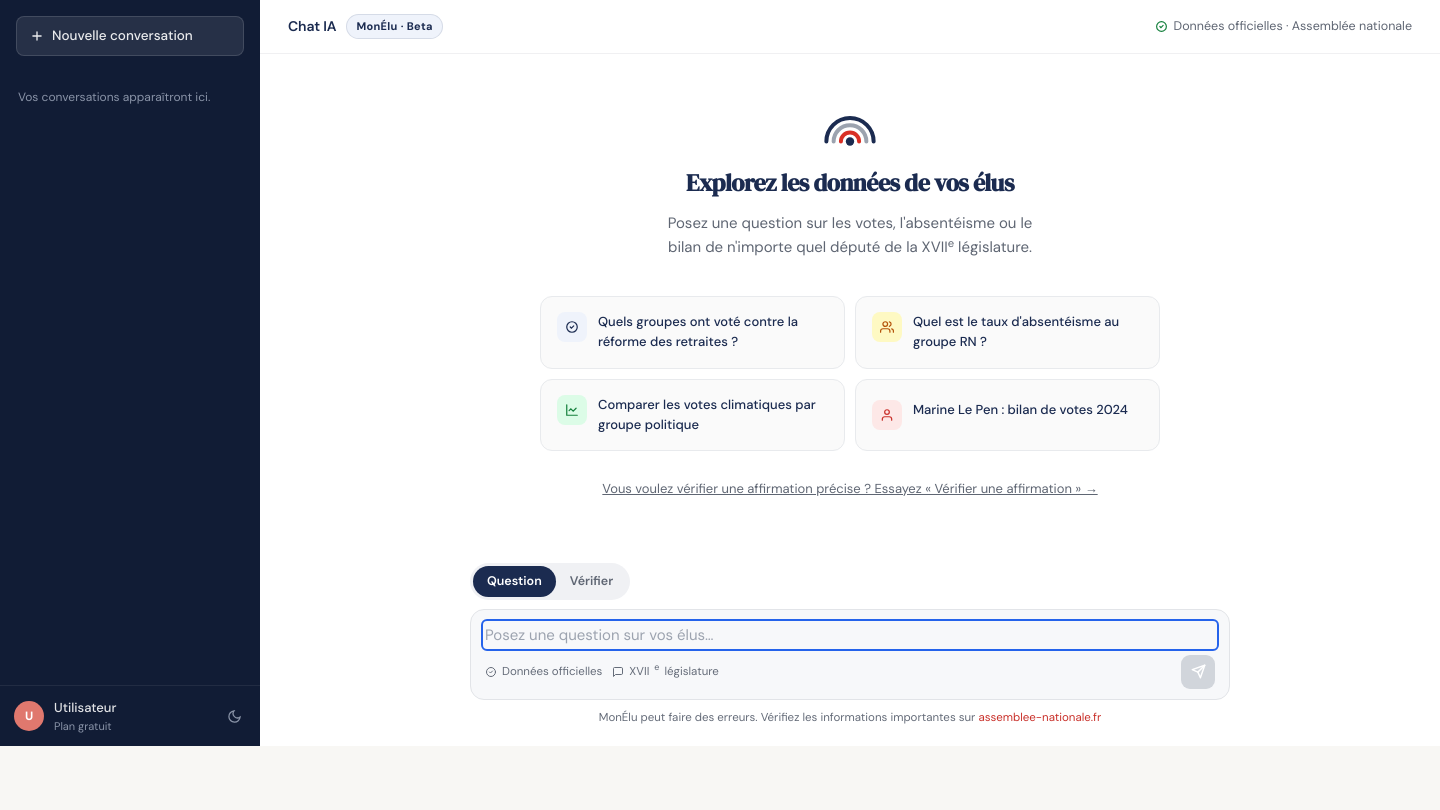
ChatPage loading treatment (MON-216) › cancels the in-flight request and removes the loading state without an error
The width and height of the screenshot is (1440, 810).
Type "Quels groupes ont voté pour ?" into the text box named "Votre question" at (850, 635), box [485, 623, 1215, 647]
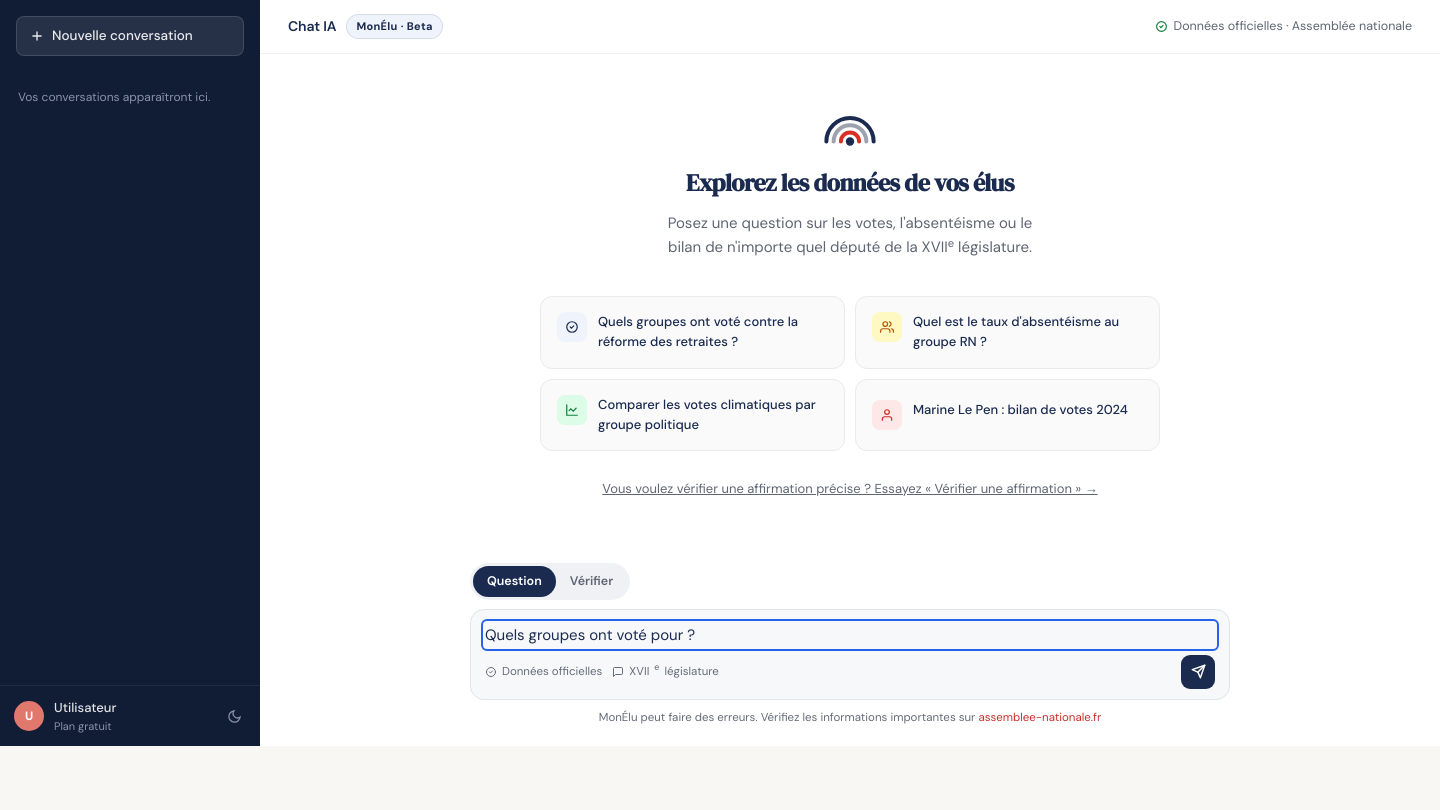
Press Enter in the text box named "Votre question", box [485, 623, 1215, 647]
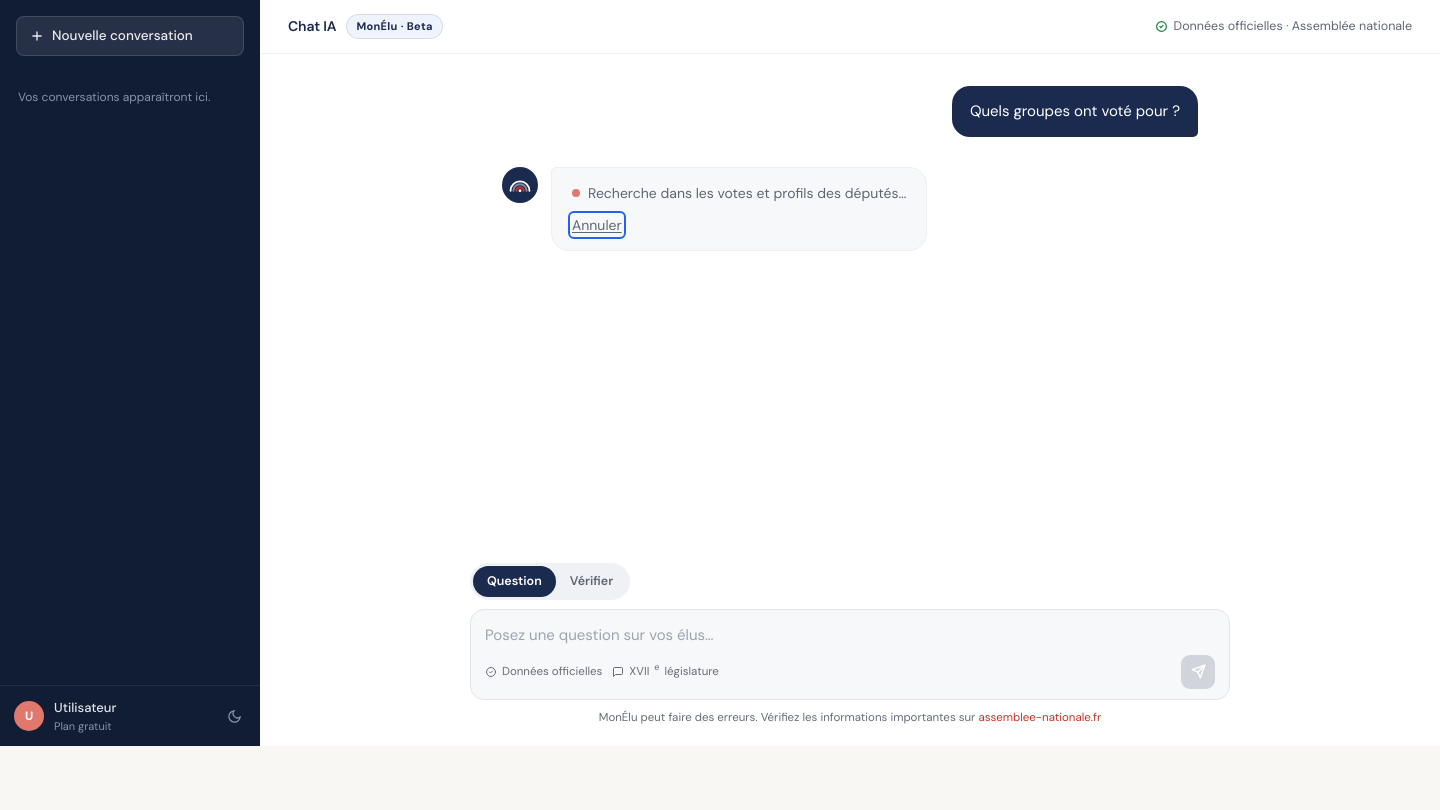
Now the message "Recherche dans les votes et profils des députés… Annuler" is shown, box [572, 183, 906, 235]
Click the button "Annuler" at (597, 225), box [572, 215, 622, 235]
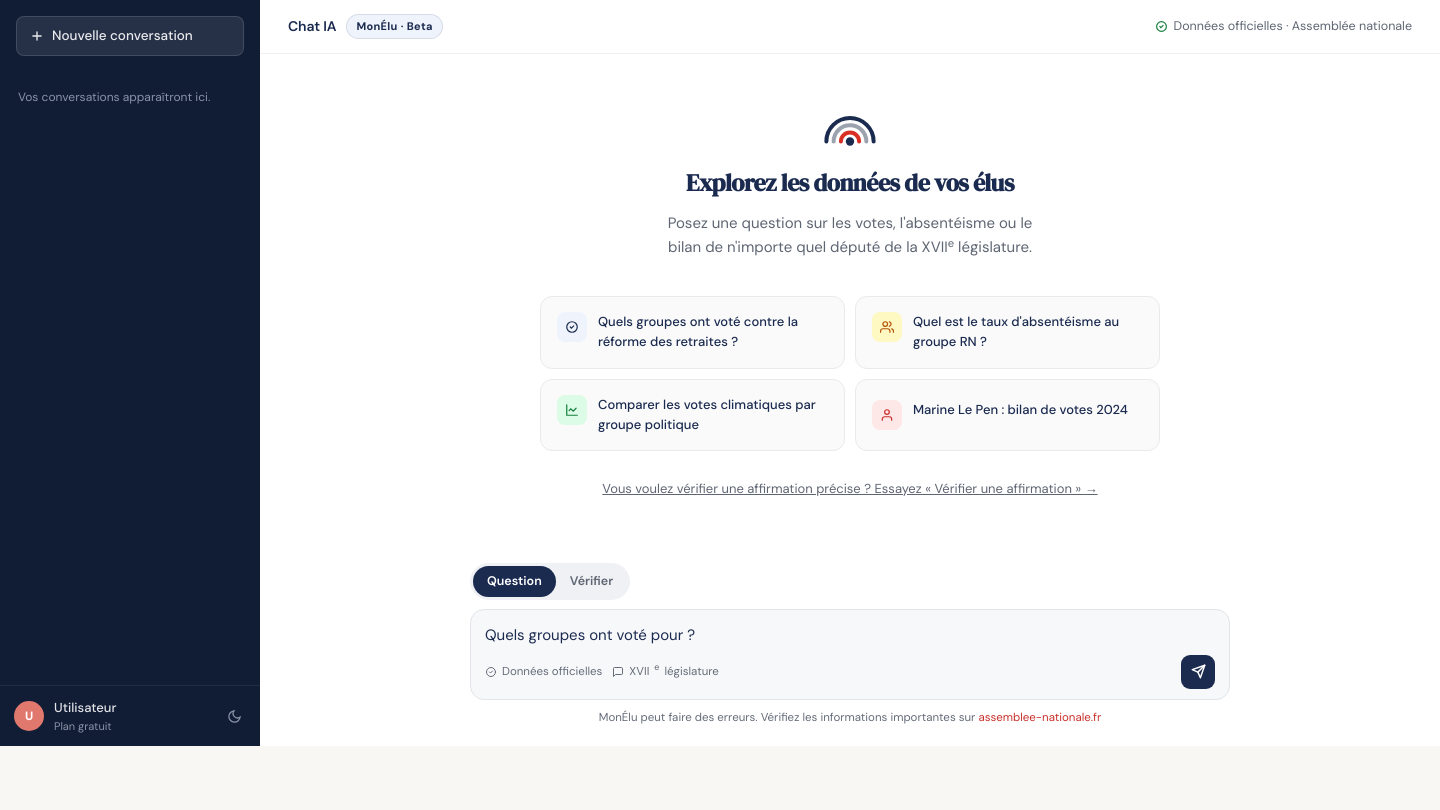
Expected: the number of text boxes "Quels groupes ont voté pour ?" is 1, [485, 623, 1215, 647]
Now the message "Recherche dans les votes et profils des députés… Annuler" is gone
